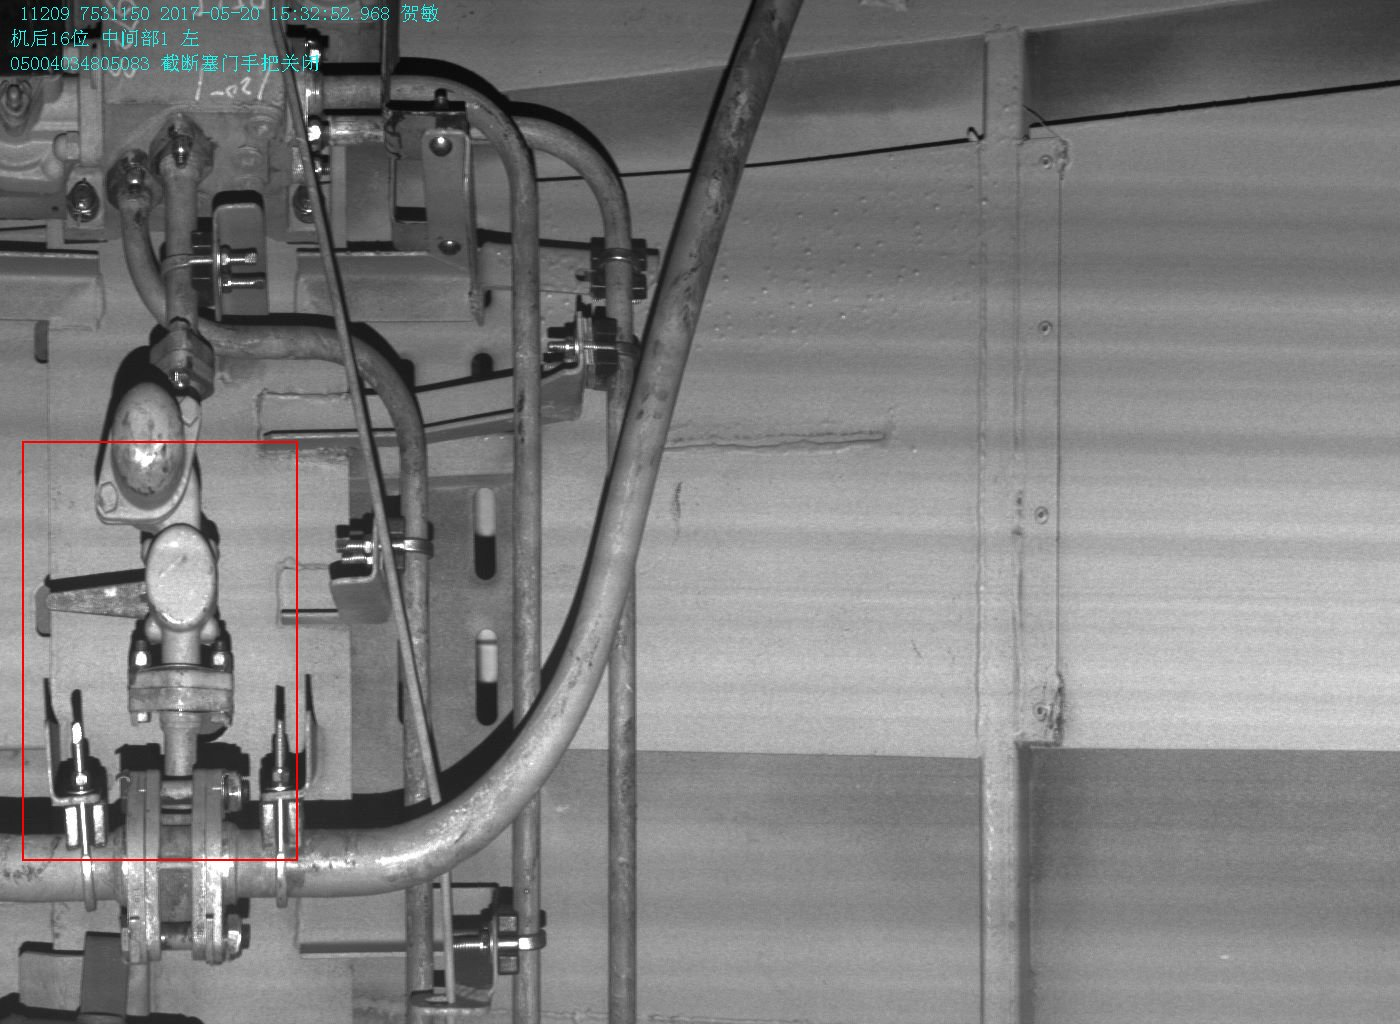truncated plug door handle: (43, 524, 224, 644)
